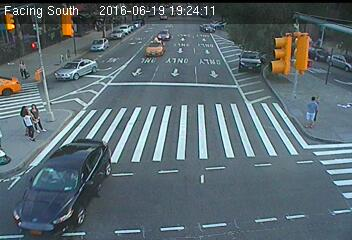neg: (174, 87, 189, 107), (99, 36, 113, 56), (217, 29, 230, 47), (206, 66, 219, 83), (149, 115, 161, 132), (256, 39, 268, 56), (290, 41, 302, 57), (137, 36, 149, 51), (91, 142, 102, 156)
pos: (21, 99, 46, 132), (300, 95, 324, 127), (307, 95, 328, 122), (15, 110, 35, 137), (12, 56, 29, 79)
